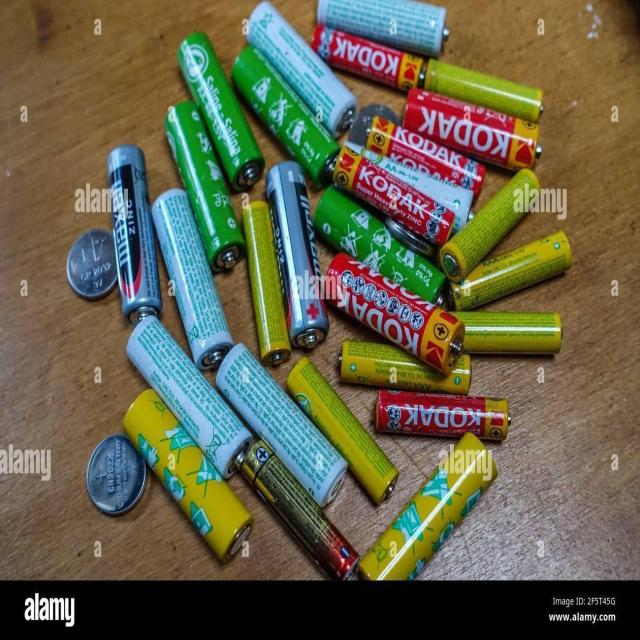AA: (121, 384, 256, 566), (213, 339, 348, 511), (357, 428, 501, 585), (122, 313, 254, 479), (320, 247, 468, 377), (311, 182, 452, 307), (228, 42, 343, 189), (242, 0, 360, 141), (149, 186, 236, 375), (173, 28, 267, 195), (160, 97, 246, 276), (402, 85, 548, 175), (264, 162, 331, 353), (106, 141, 163, 328), (311, 0, 452, 60)
AAA: (284, 353, 402, 507), (329, 142, 458, 253), (437, 166, 546, 286), (240, 199, 294, 369), (309, 21, 428, 94), (373, 386, 516, 445)
COIN: (84, 432, 148, 518), (65, 227, 120, 302)
